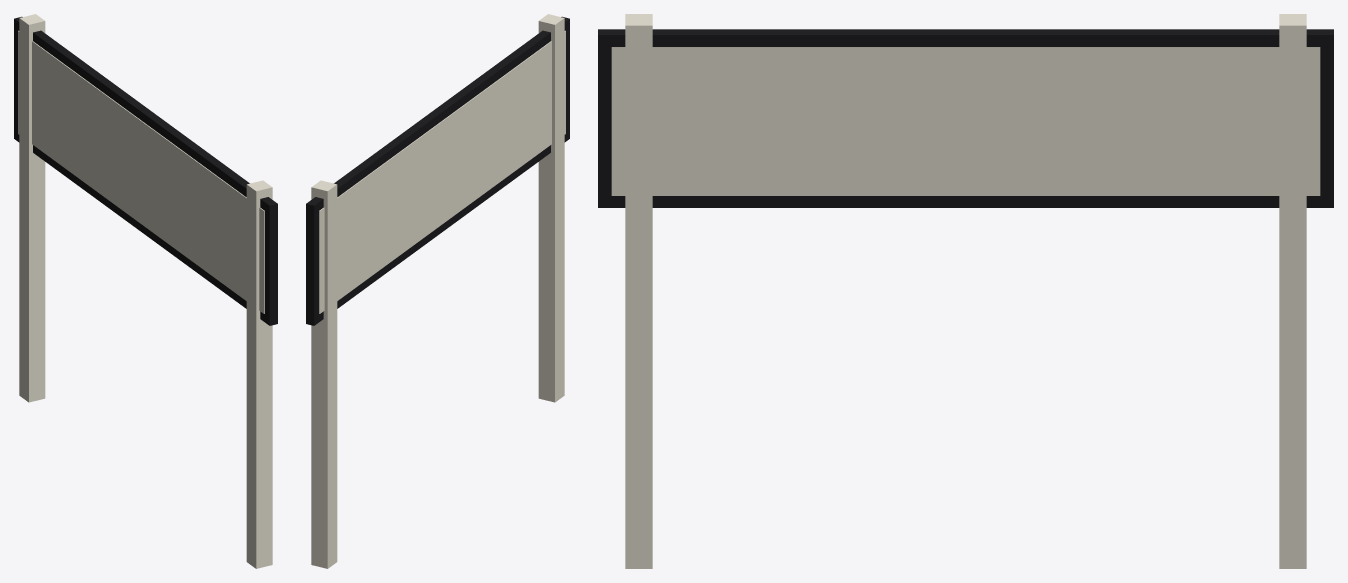
The model's file is station_nameboard.glb.
3 views of the same model, side by side, from view 1: azimuth 30°, elevation 25°; view 2: azimuth 150°, elevation 25°; view 3: azimuth 270°, elevation 25° (orthographic). The views are drawn at different scales.
Visible parts, largest first — view 1: Body; view 2: Body; view 3: Body.
Part boxes in pixels (x1,y1,x2,y2): Body: [14, 14, 277, 568]; Body: [306, 14, 569, 568]; Body: [598, 14, 1333, 568].
Bounding box in the file's own units: 0.1 × 2.2 × 2.7.
